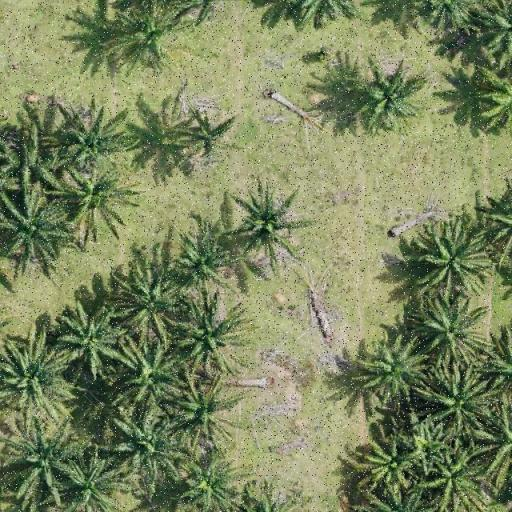Ganoderma: (174, 385, 227, 430), (120, 12, 172, 55), (182, 116, 230, 154)
